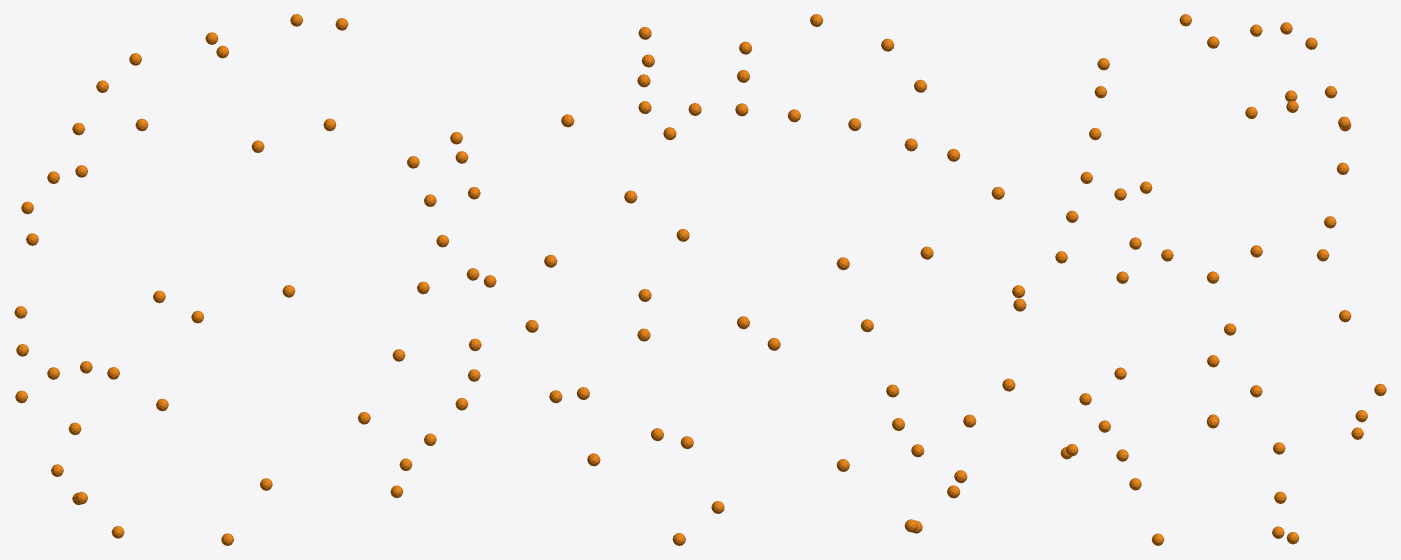
Rendered from citrus_plain_e_fruit.obj.
3 views of the same model, side by side, from view 1: azimuth 30°, elevation 25°; view 2: azimuth 150°, elevation 25°; view 3: azimuth 270°, elevation 25° (orthographic). The views are drawn at different scales.
Visible parts, largest first — view 1: fruit; view 2: fruit; view 3: fruit.
Boxes of the visible parts, x1,y1,x2,y2 form: fruit: [14, 14, 496, 545]; fruit: [525, 14, 1026, 545]; fruit: [1055, 14, 1386, 545].
Bounding box in the file's own units: 2.98 × 3.07 × 1.99.
